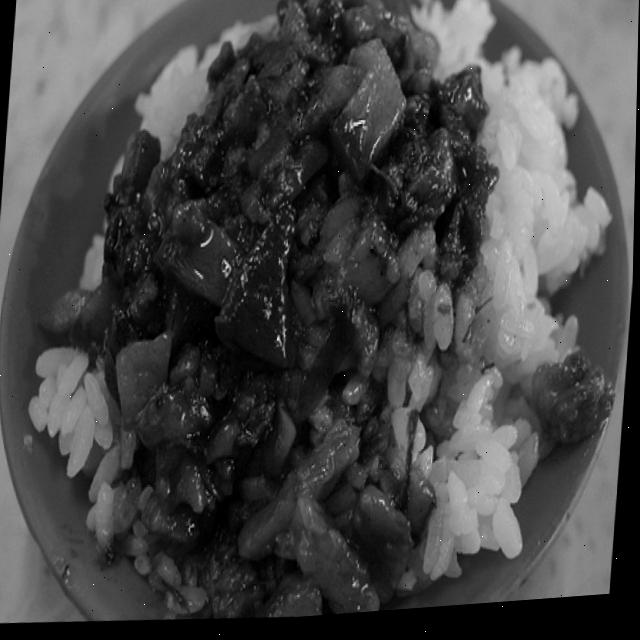猪肉菜式: (11, 0, 618, 639)
